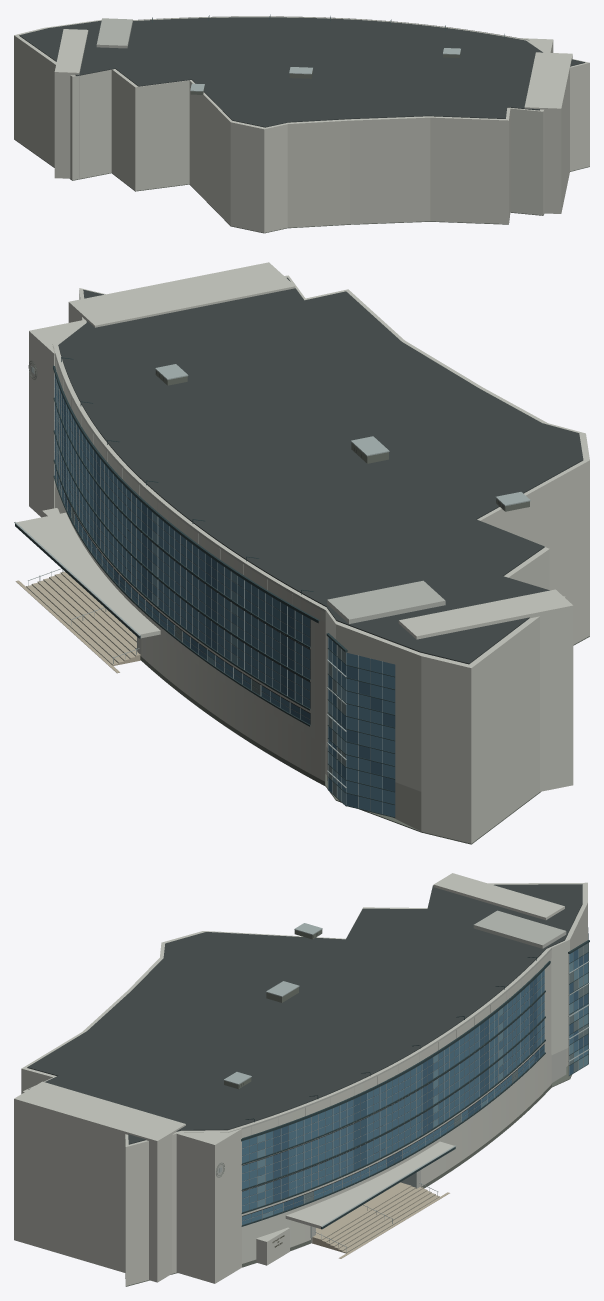
Rendered from district-court.glb.
3 views of the same model, one above another, from view 1: azimuth 30°, elevation 25°; view 2: azimuth 150°, elevation 25°; view 3: azimuth 270°, elevation 25° (orthographic). The views are drawn at different scales.
Visible parts, largest first — view 1: District Court of Maryland; view 2: District Court of Maryland; view 3: District Court of Maryland.
Boxes of the visible parts, x1=… form: District Court of Maryland: x1=14, y1=14, x2=589, y2=233; District Court of Maryland: x1=14, y1=262, x2=589, y2=844; District Court of Maryland: x1=14, y1=873, x2=589, y2=1286.
Bounding box in the file's own units: 94.36 × 23.98 × 84.84.
